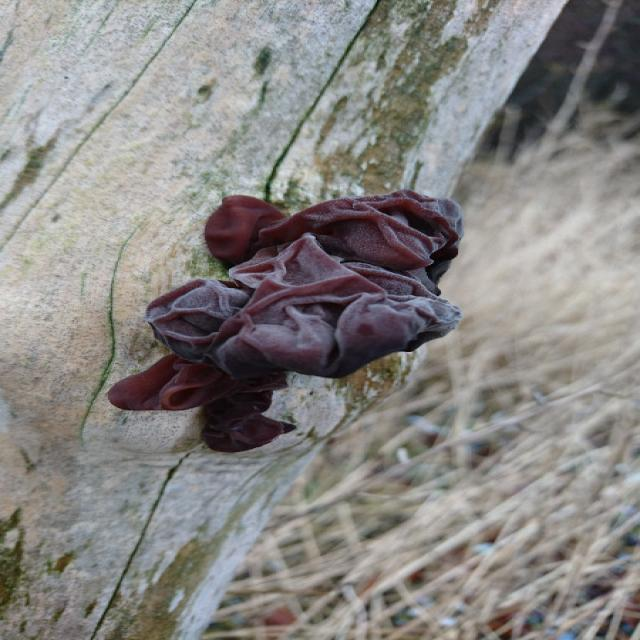Auricularia auricula: (110, 191, 454, 451)
